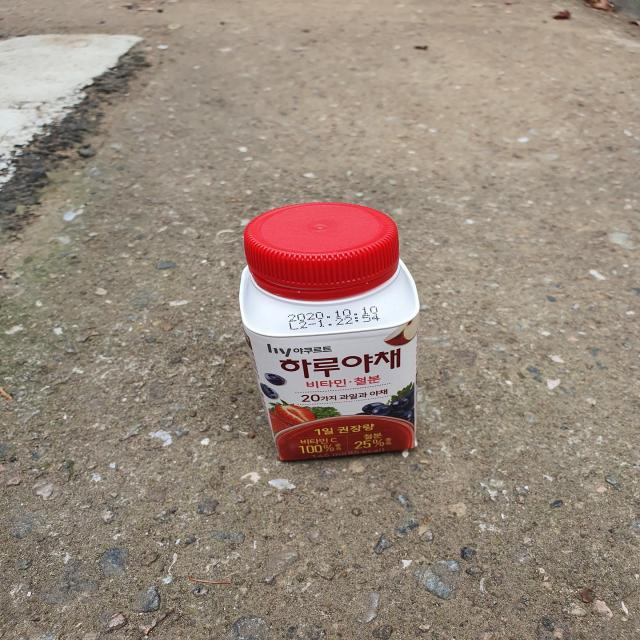paperpack: (239, 202, 420, 461)
